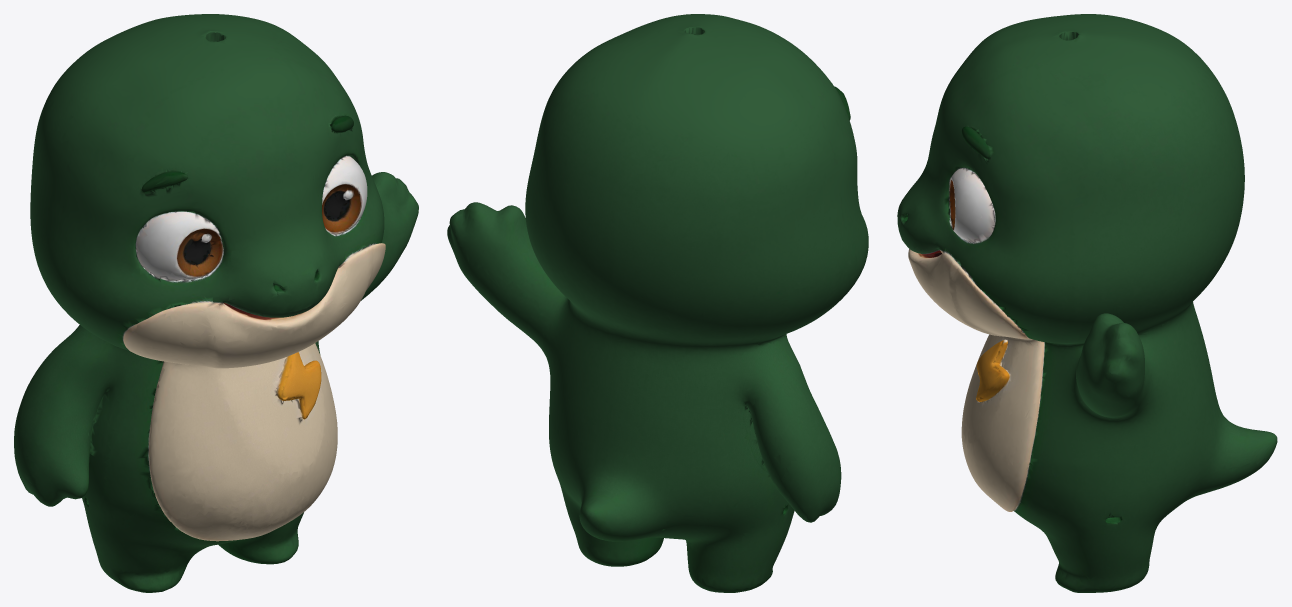
File: dino_green.glb
3 renders of one model, left to right at view 1: azimuth 30°, elevation 25°; view 2: azimuth 150°, elevation 25°; view 3: azimuth 270°, elevation 25°, orthographic. The views are drawn at different scales.
Parts seen in each view (by area): view 1: Dinosaur; view 2: Dinosaur; view 3: Dinosaur.
Part boxes in pixels (x1,y1,x2,y2): Dinosaur: (14, 14, 418, 592); Dinosaur: (447, 14, 868, 592); Dinosaur: (897, 14, 1277, 592).
Size of the model in its own units: 0.7485 by 0.9812 by 0.6474.
Materials: 1 (1 with a texture image).
